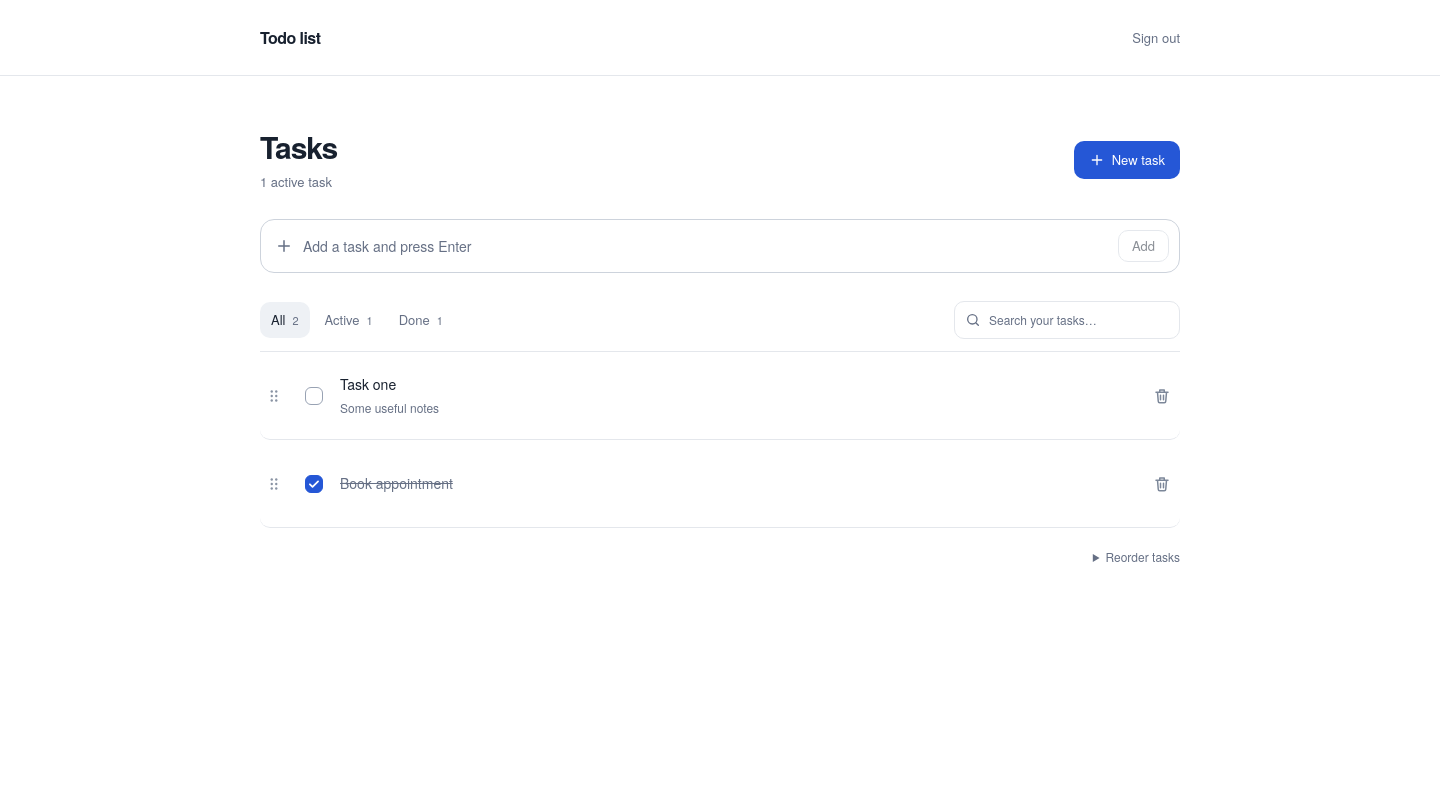
sign-in and account boundaries › redirects authenticated visitors and clears task data on sign-out
Expected: the text "Task one" is shown, [340,374,396,394]
Click the button "Sign out": (1150, 38) [1120,20,1180,56]
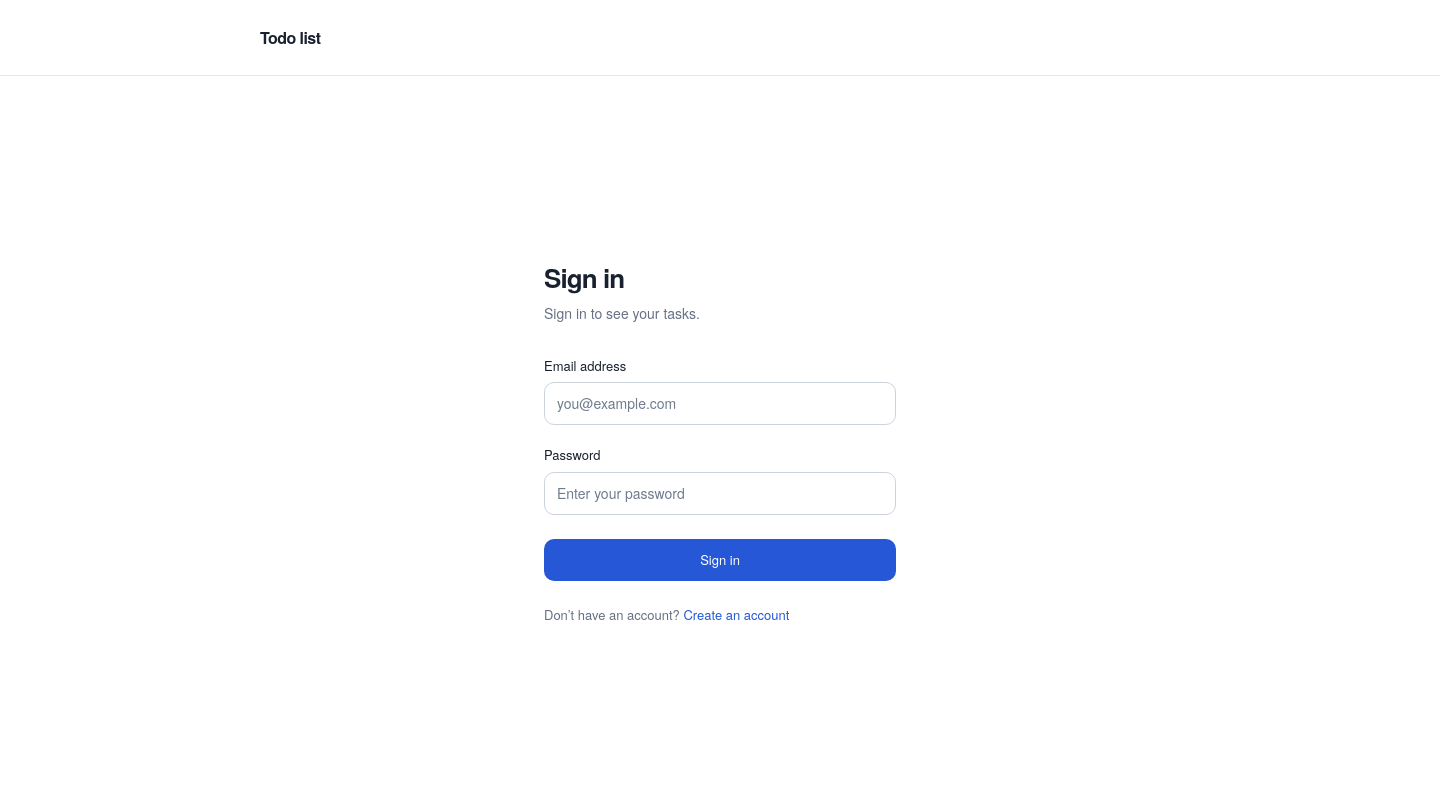
Now the heading "Sign in" is shown, box [544,259,624,296]
Now the link "Task one" is gone
